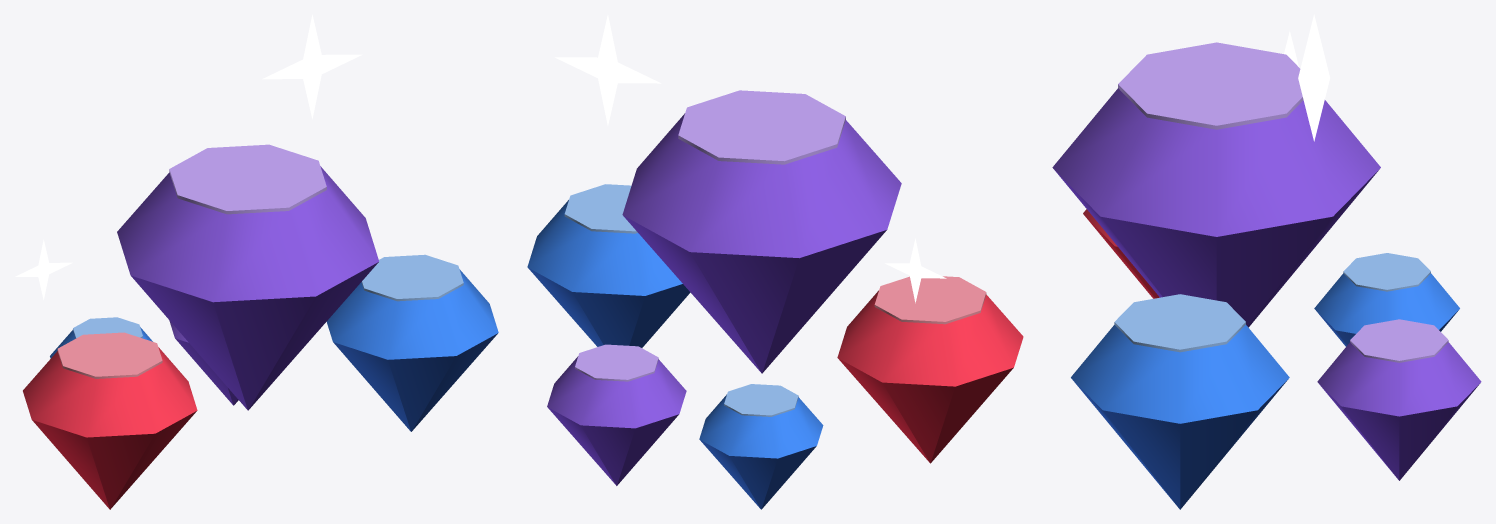
File: GemsPile.glb
The picture shows the model from 3 angles, left to right: view 1: azimuth 30°, elevation 25°; view 2: azimuth 150°, elevation 25°; view 3: azimuth 270°, elevation 25°; orthographic projection. The views are drawn at different scales.
Visible parts, largest first — view 1: Body, Glow; view 2: Body, Glow; view 3: Body, Glow.
Part boxes in pixels (x1,y1,x2,y2): Body: (23,144,498,509); Glow: (15,14,362,299); Body: (527,90,1023,509); Glow: (555,15,946,303); Body: (1052,42,1481,509); Glow: (1284,14,1329,141).
Bounding box in the file's own units: 2.6 × 2.23 × 1.76.
Materials: 2 (1 with a texture image).
